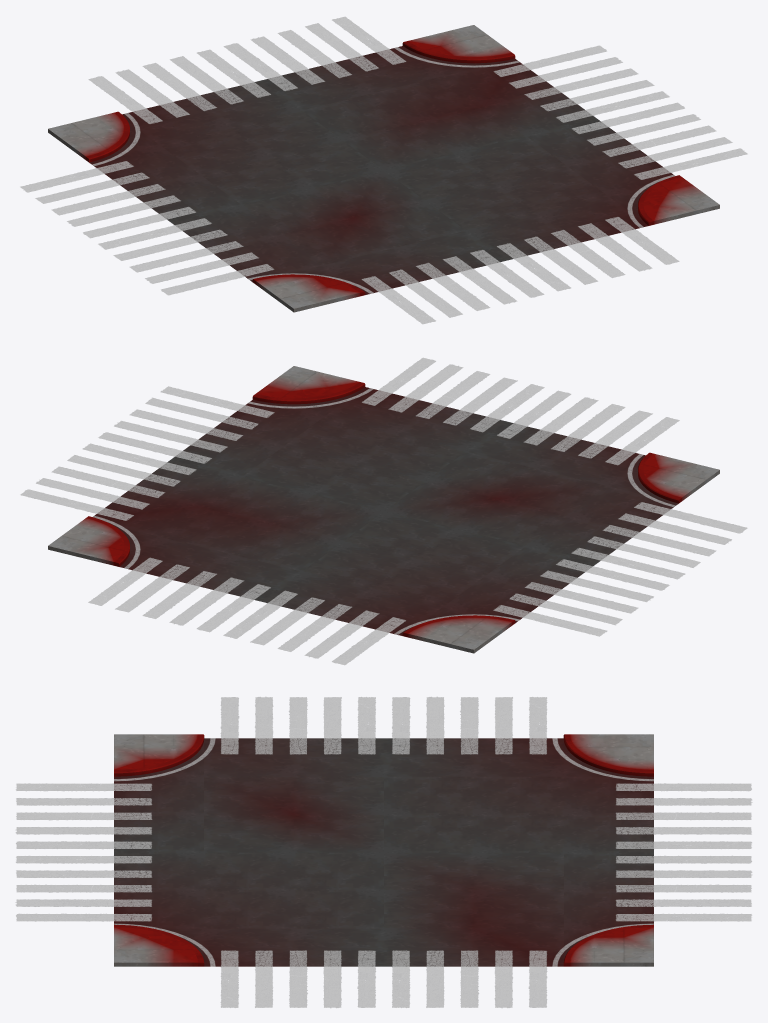
Rendered from Street_4WayIntersection.glb.
3 renders of one model, top to bottom at view 1: azimuth 30°, elevation 25°; view 2: azimuth 150°, elevation 25°; view 3: azimuth 270°, elevation 25°, orthographic. The views are drawn at different scales.
Parts seen in each view (by area): view 1: Street_4WayIntersection; view 2: Street_4WayIntersection; view 3: Street_4WayIntersection.
Boxes of the visible parts, <box> form: Street_4WayIntersection: <box>20,16,747,324</box>; Street_4WayIntersection: <box>20,357,747,665</box>; Street_4WayIntersection: <box>16,697,751,1007</box>.
Bounding box in the file's own units: 24.67 × 0.1506 × 24.67.
Materials: 3 (3 with a texture image).
